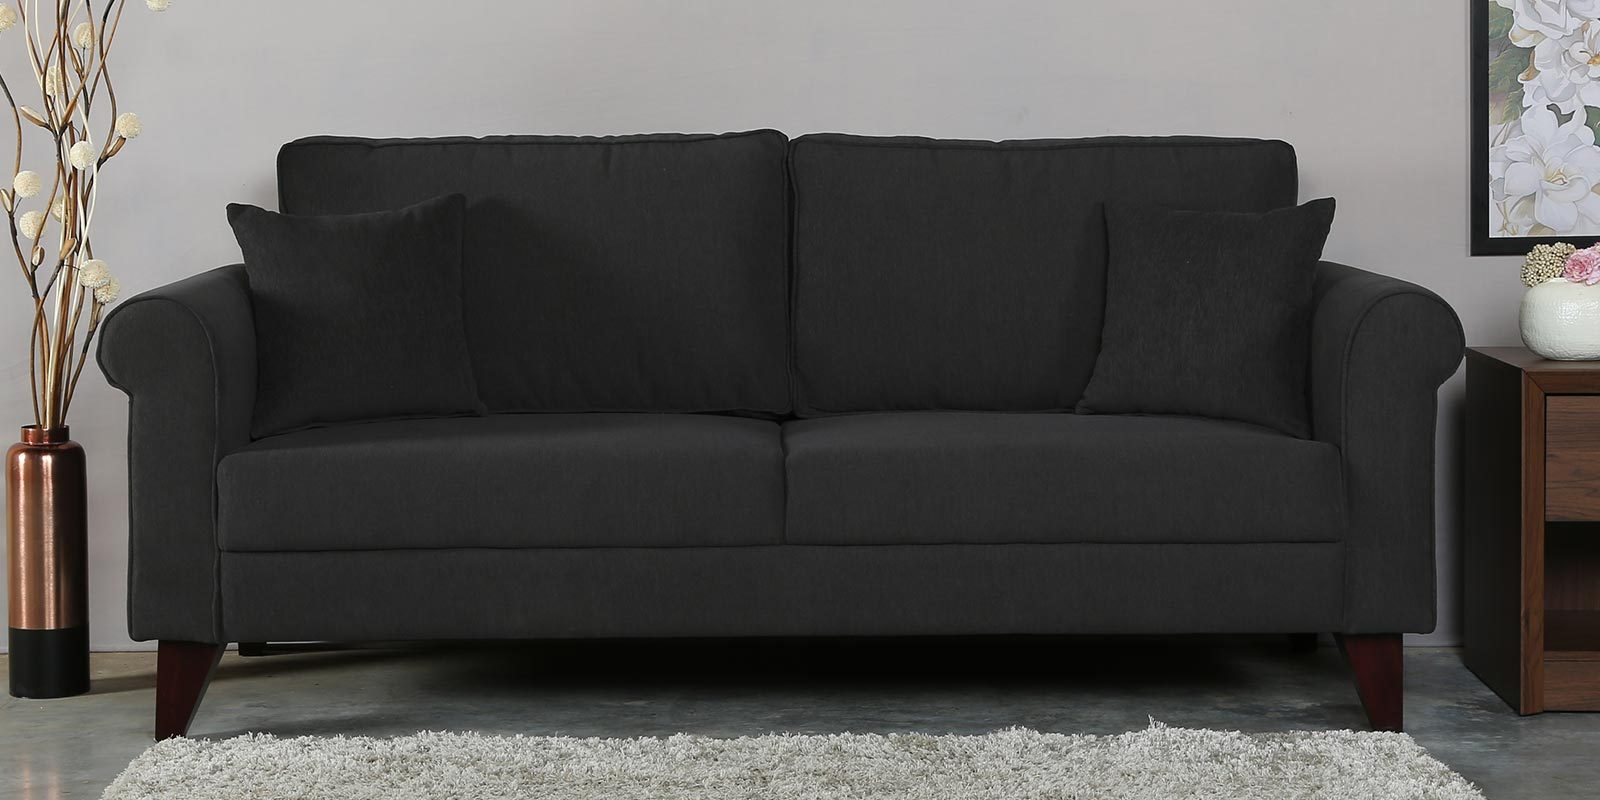Fuego Three Seater Sofa in Charcoal Grey Colour by CasaCraft: (92, 116, 1482, 758)
